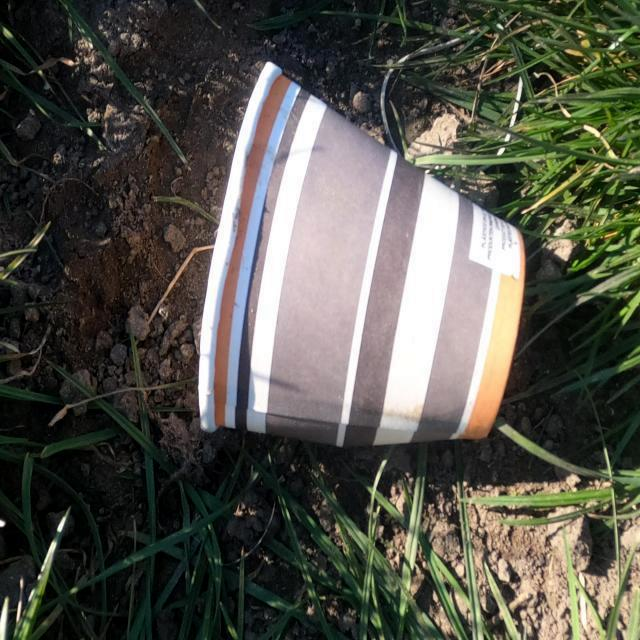Coffee Cup: (194, 58, 528, 452)
